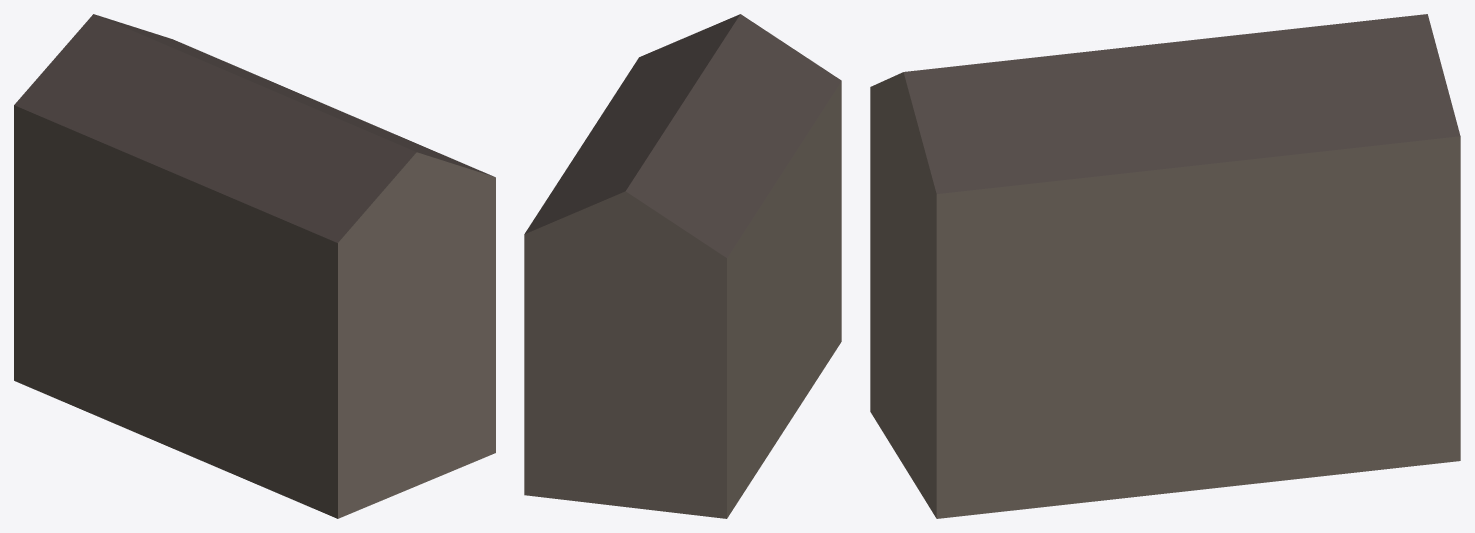
3 views of the same model, side by side, from view 1: azimuth 30°, elevation 25°; view 2: azimuth 150°, elevation 25°; view 3: azimuth 270°, elevation 25° (orthographic). The views are drawn at different scales.
Visible parts, largest first — view 1: HP-w858807445; view 2: HP-w858807445; view 3: HP-w858807445.
Boxes of the visible parts, x1,y1,x2,y2 form: HP-w858807445: [14, 14, 495, 518]; HP-w858807445: [524, 14, 841, 518]; HP-w858807445: [870, 14, 1460, 518].
Size of the model in its own units: 6.55 by 7.27 by 9.88.
